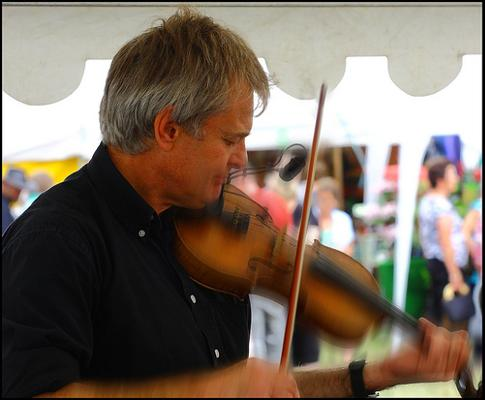person: (5, 14, 472, 399)
